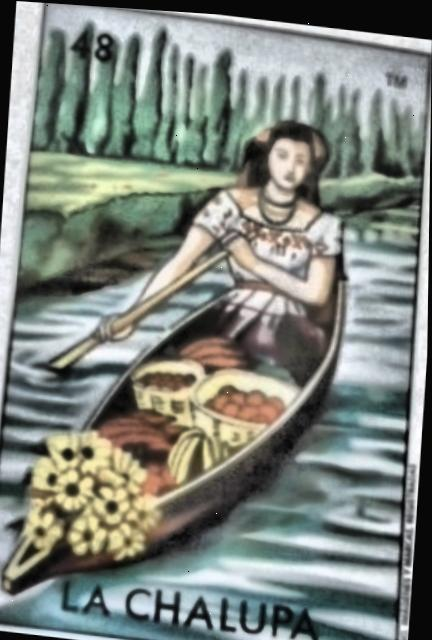La Chalupa: (0, 2, 432, 640)
